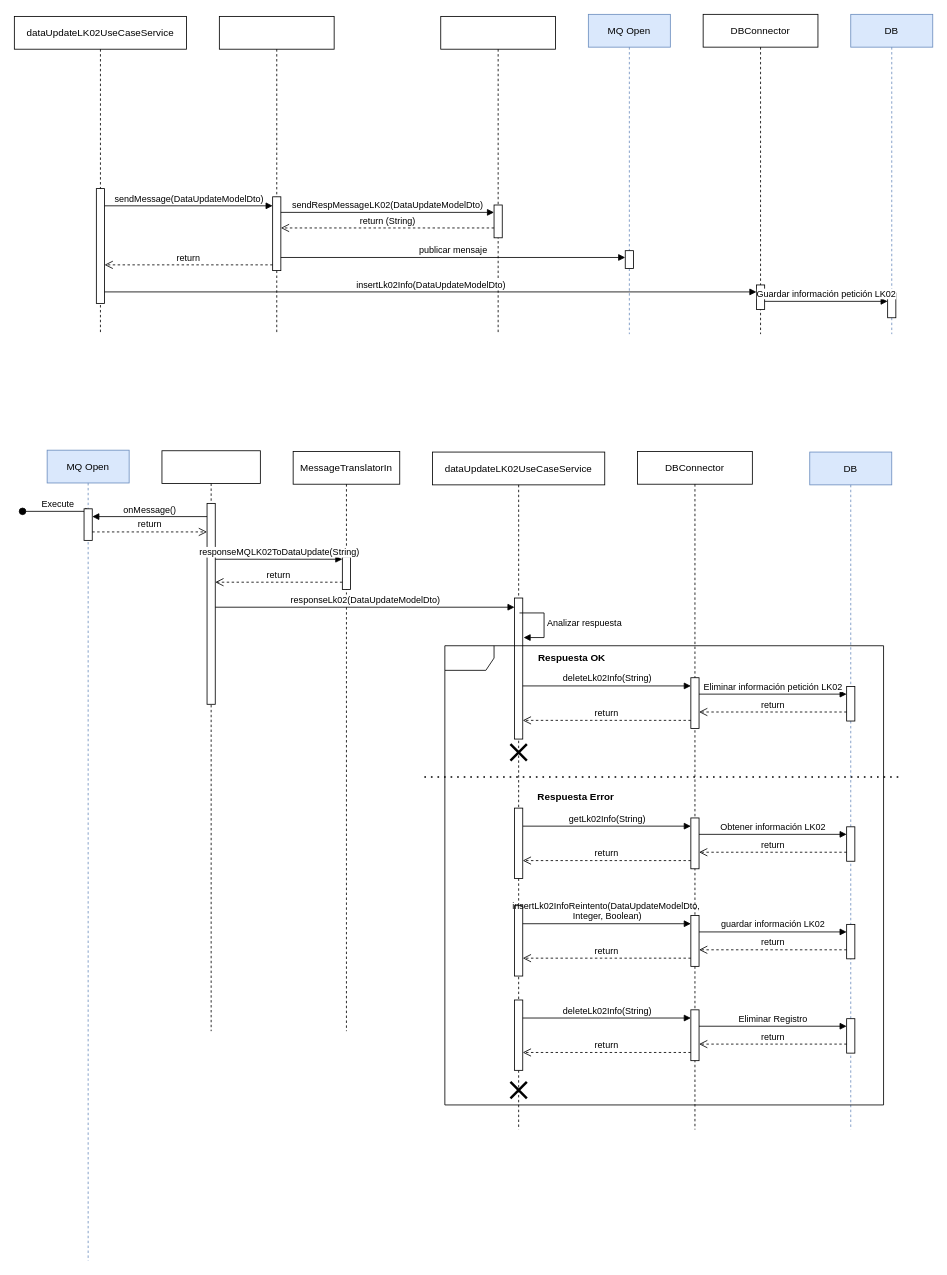
Some shapes in this 947 by 1275 pixel diagram are drawn without their labels. The shapes that lost their labels are listed below. From the top down, each one's box as (x1, y1, x2, y2) in pixels, then its label:
(219, 16, 334, 334): MQMessagePublisher
(440, 16, 556, 334): MessageTranslatorOut
(161, 450, 260, 1031): MQMessageListener
(444, 645, 884, 1105): alt
